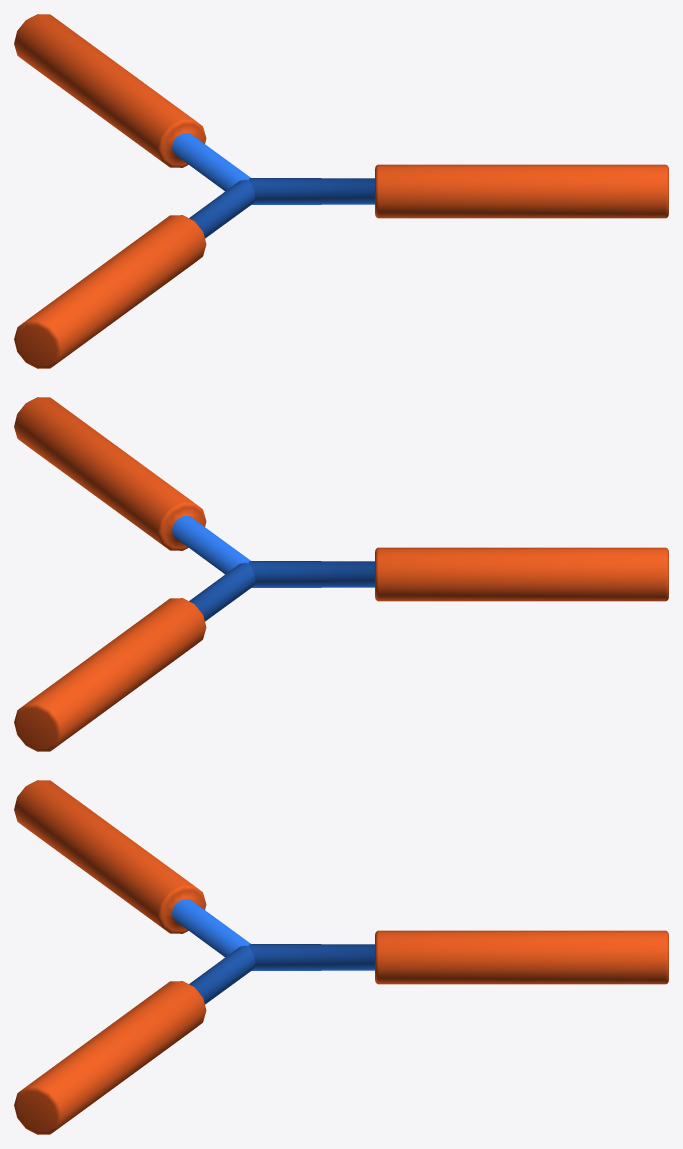
The model's file is propeller2.fbx.
The picture shows the model from 3 angles, top to bottom: view 1: azimuth 30°, elevation 25°; view 2: azimuth 150°, elevation 25°; view 3: azimuth 270°, elevation 25°; orthographic projection.
Visible parts, largest first — view 1: propeller2; view 2: propeller2; view 3: propeller2.
Part boxes in pixels (x1=…): propeller2: x1=14, y1=14, x2=668, y2=368; propeller2: x1=14, y1=397, x2=668, y2=751; propeller2: x1=14, y1=780, x2=668, y2=1134.
Size of the model in its own units: 12.96 by 0.9208 by 11.25.
